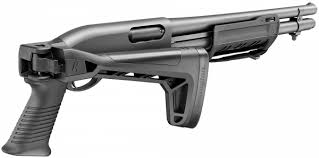gun: (4, 2, 317, 156)
